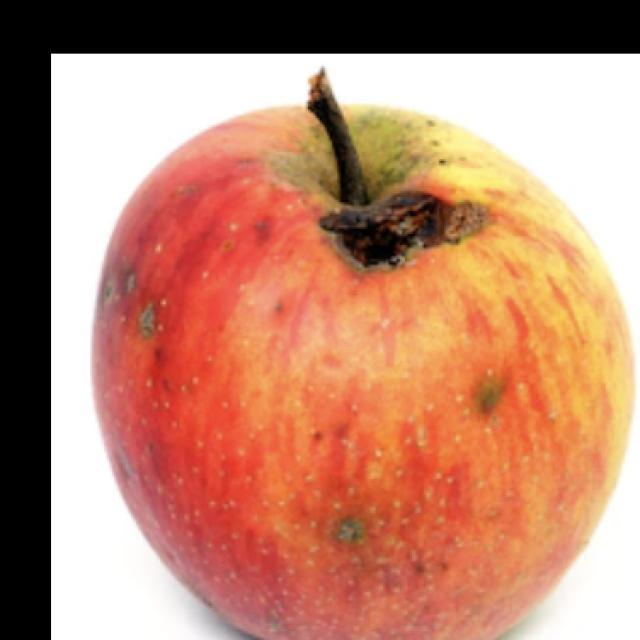Rotten: (110, 88, 640, 640)
